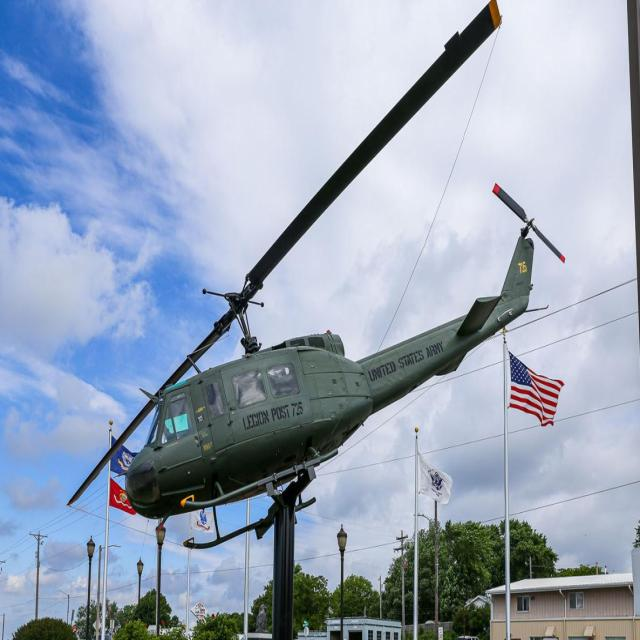helicopter: (111, 1, 571, 551)
